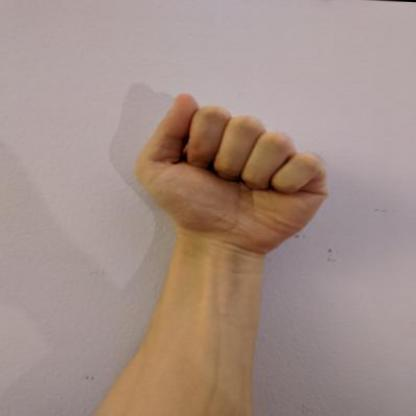A: (125, 84, 338, 261)
